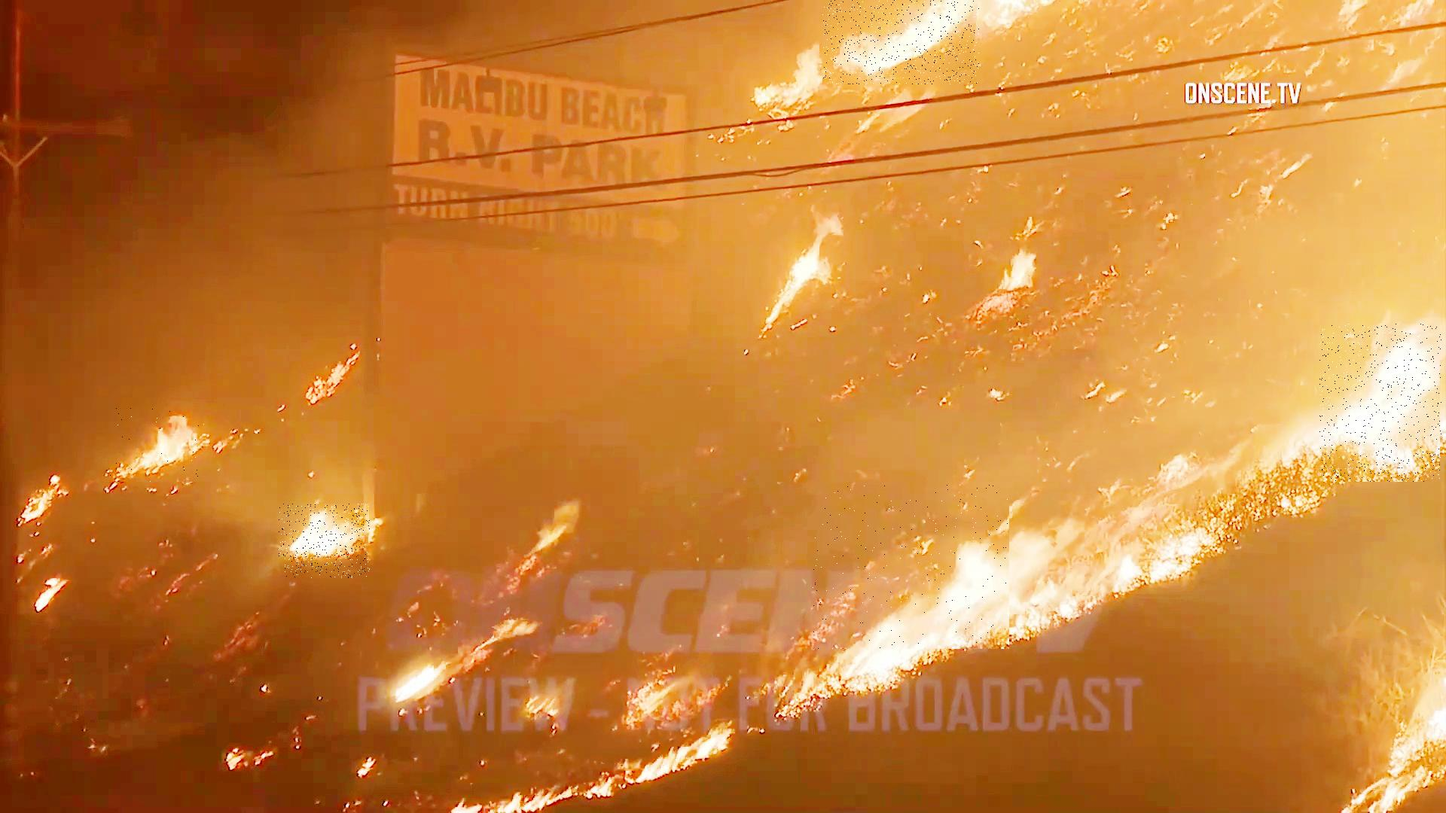fire: (812, 484, 1011, 649), (1320, 324, 1442, 482), (822, 0, 979, 84), (110, 407, 206, 482), (279, 504, 370, 578)
